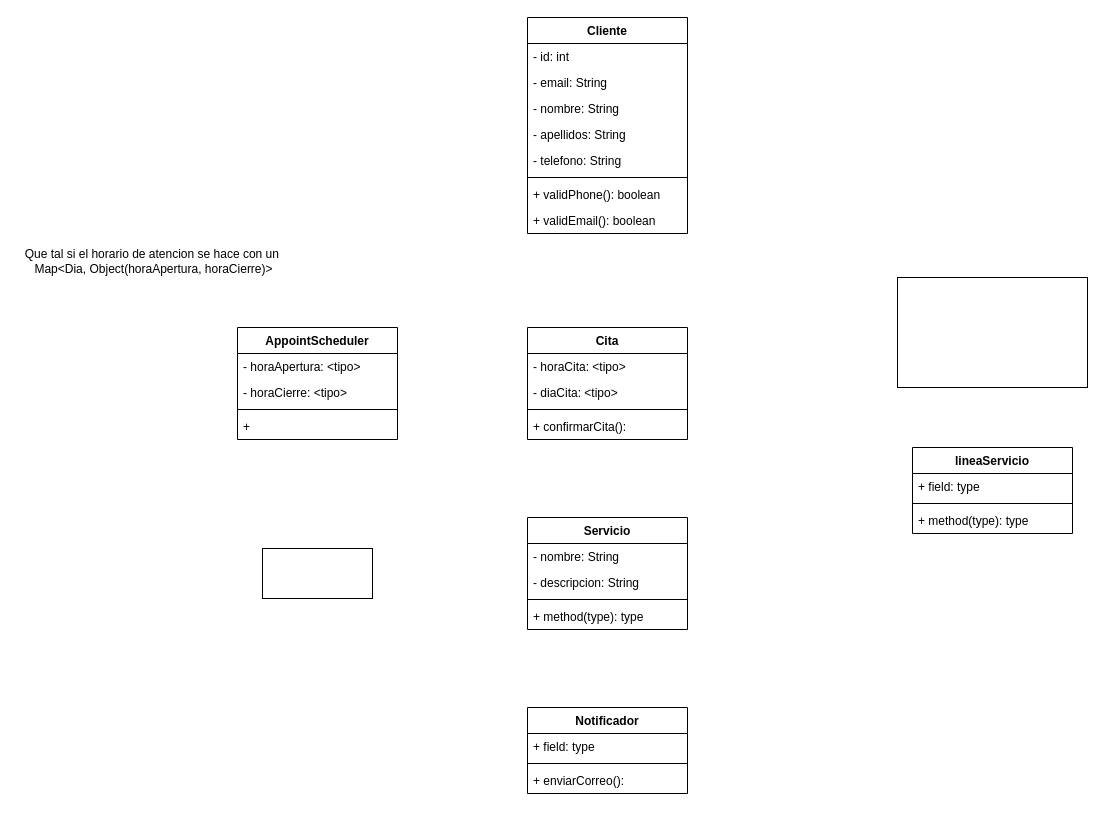
Some shapes in this 1105 by 814 pixel diagram are drawn without their labels. The shapes that lost their labels are listed below. From the top down, each one's centre as x and y in pixels, then its label:
the point at 992,332: <<Enum>> EstadoCIta + toString(): String CONFIRMADA NO_CONFIRMADA
the point at 317,573: Cola de espera
